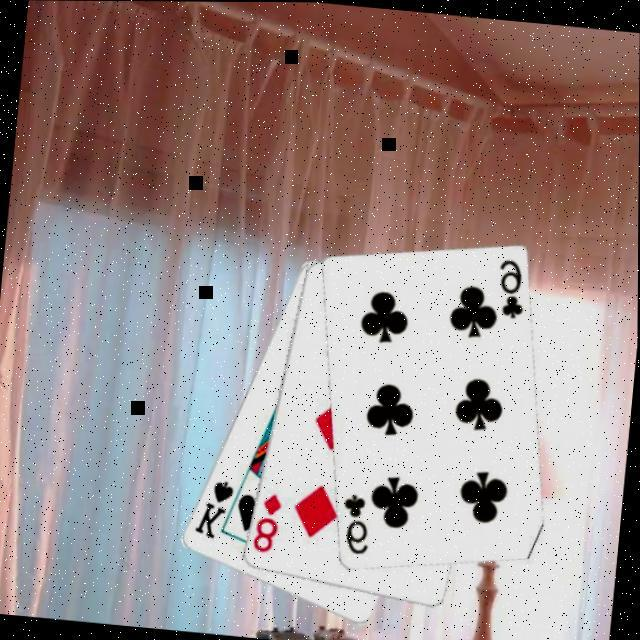6C: (337, 488, 376, 555), (493, 253, 530, 320)
8D: (249, 487, 286, 554)
KS: (190, 473, 238, 541)
